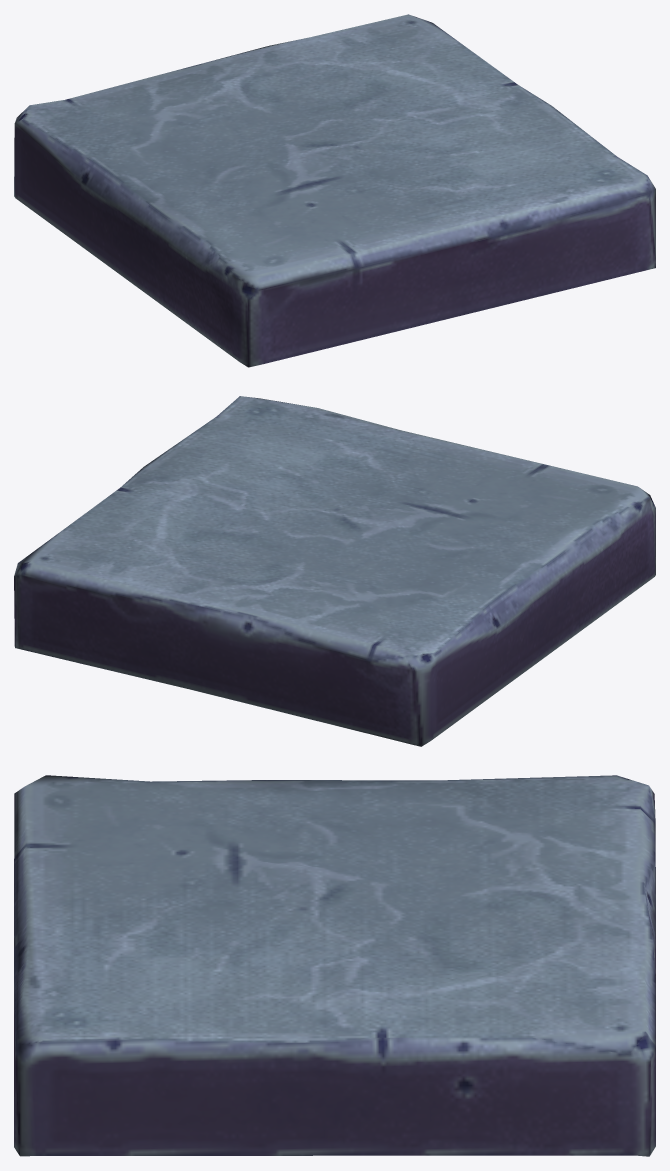
File: floorTile3.glb
3 renders of one model, top to bottom at view 1: azimuth 30°, elevation 25°; view 2: azimuth 150°, elevation 25°; view 3: azimuth 270°, elevation 25°, orthographic. The views are drawn at different scales.
Visible parts, largest first — view 1: Tile1_02; view 2: Tile1_02; view 3: Tile1_02.
Part boxes in pixels (box(x1,y1,x2,y2)): Tile1_02: box(14, 14, 655, 367); Tile1_02: box(14, 396, 655, 746); Tile1_02: box(14, 775, 655, 1156).
Size of the model in its own units: 0.2853 by 0.0611 by 0.2852.
Materials: 1 (1 with a texture image).
